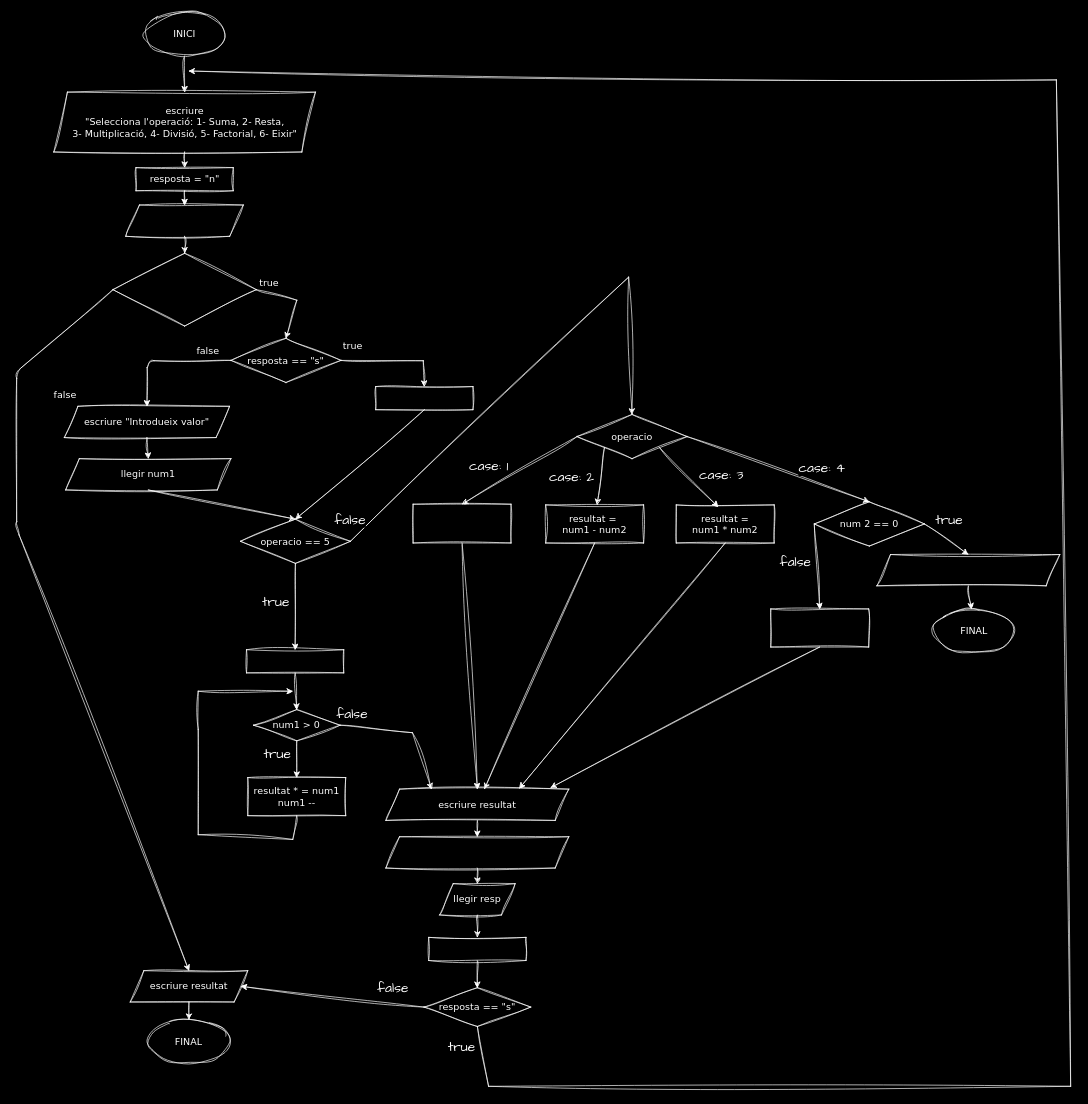
Some shapes in this 1088 by 1104 pixel diagram are drawn without their labels. The shapes that lost their labels are listed below. From the top down, each one's box as (x1, y1, x2, y2) in pixels, then its label:
(125, 204, 243, 236): llegir operacio
(112, 253, 256, 326): operació != 6 && resposta == "s"
(375, 386, 473, 410): num1 = resultat
(412, 504, 511, 543): resultat = num1 + num2
(876, 554, 1060, 586): escriure "error, divisió per 0"
(770, 608, 869, 647): resultat = num1 / num2
(246, 649, 344, 673): resultat = 1
(385, 836, 569, 868): escriure "Repetir operació? S/N"
(428, 937, 526, 961): resposta = resp
